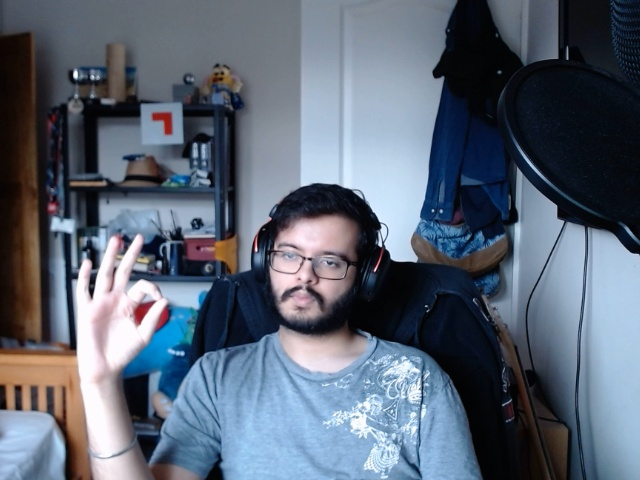Okay: (57, 232, 174, 387)
